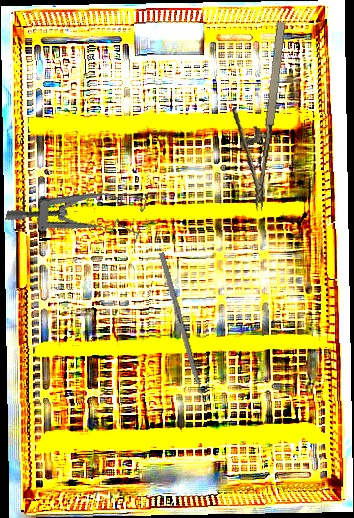Needle Holder: (217, 16, 292, 212)
Pusher: (158, 251, 211, 419)
Speculum: (4, 163, 149, 257)
